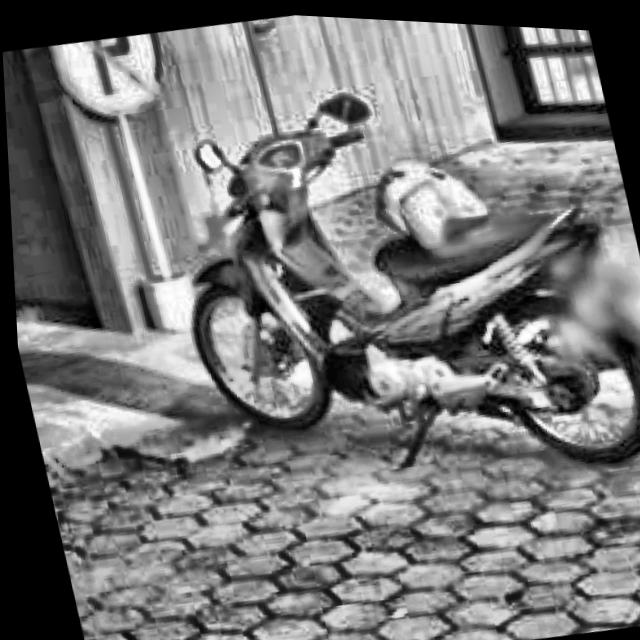motorcycle: (123, 30, 640, 530)
